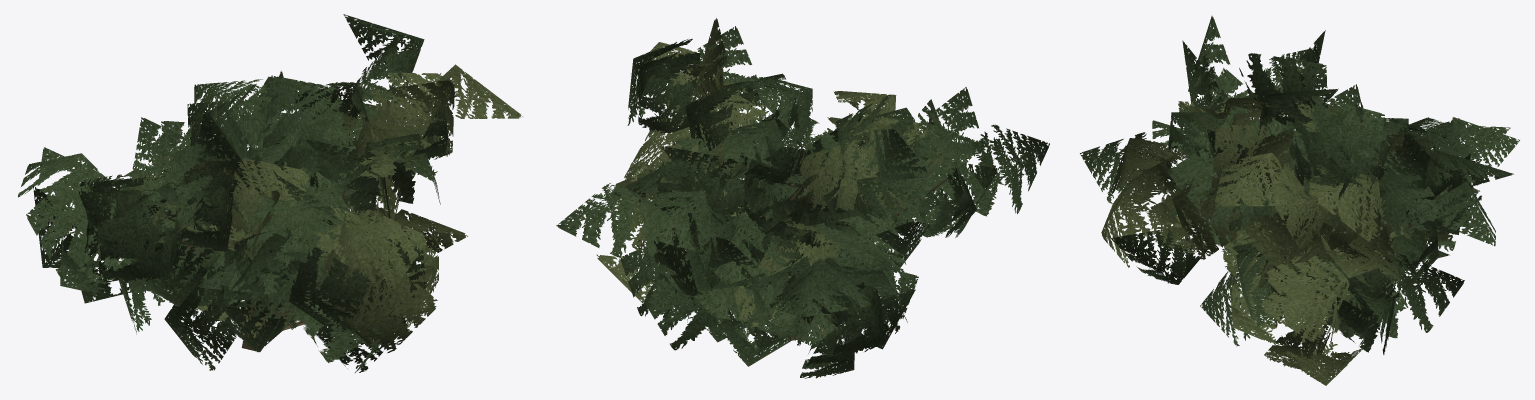
Rendered from SM_CN_Juniper_A_LOD2.glb.
3 views of the same model, side by side, from view 1: azimuth 30°, elevation 25°; view 2: azimuth 150°, elevation 25°; view 3: azimuth 270°, elevation 25° (orthographic). The views are drawn at different scales.
Visible parts, largest first — view 1: SM_CN_Juniper_A_LOD2; view 2: SM_CN_Juniper_A_LOD2; view 3: SM_CN_Juniper_A_LOD2.
Boxes of the visible parts, <box> form: SM_CN_Juniper_A_LOD2: <box>18,14,522,372</box>; SM_CN_Juniper_A_LOD2: <box>556,18,1049,378</box>; SM_CN_Juniper_A_LOD2: <box>1080,16,1519,385</box>.
Bounding box in the file's own units: 2.35 × 1.65 × 2.29.
Materials: 2 (2 with a texture image).
